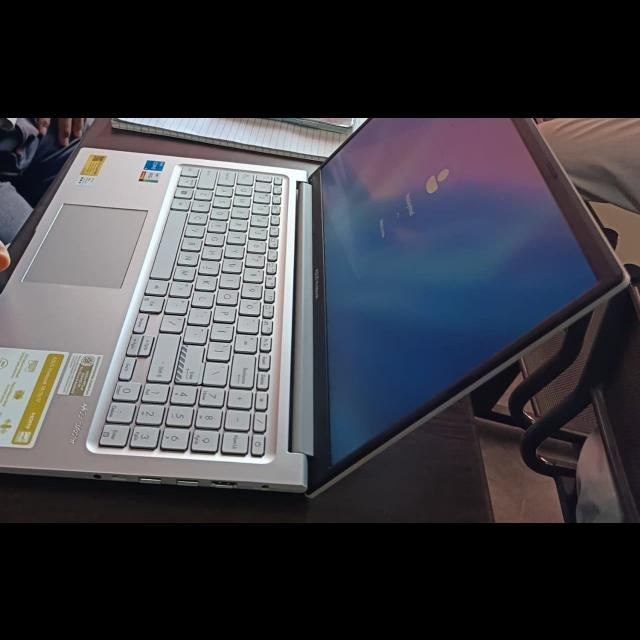laptop: (1, 126, 640, 504)
